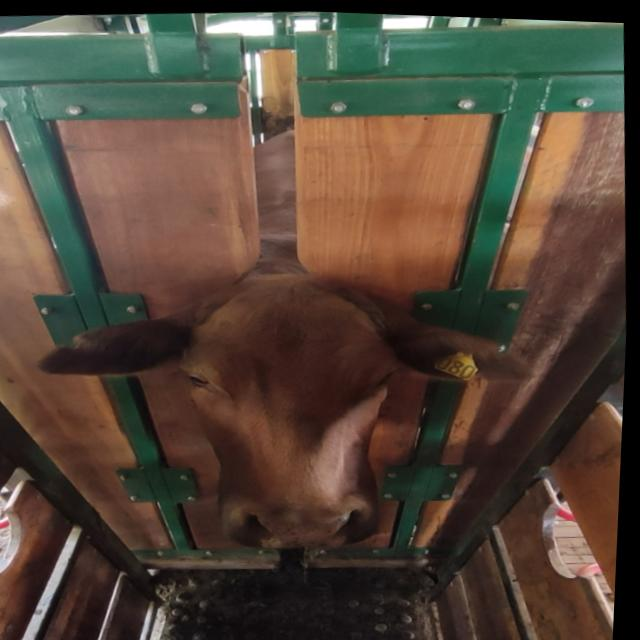cowFace: (172, 266, 416, 556)
